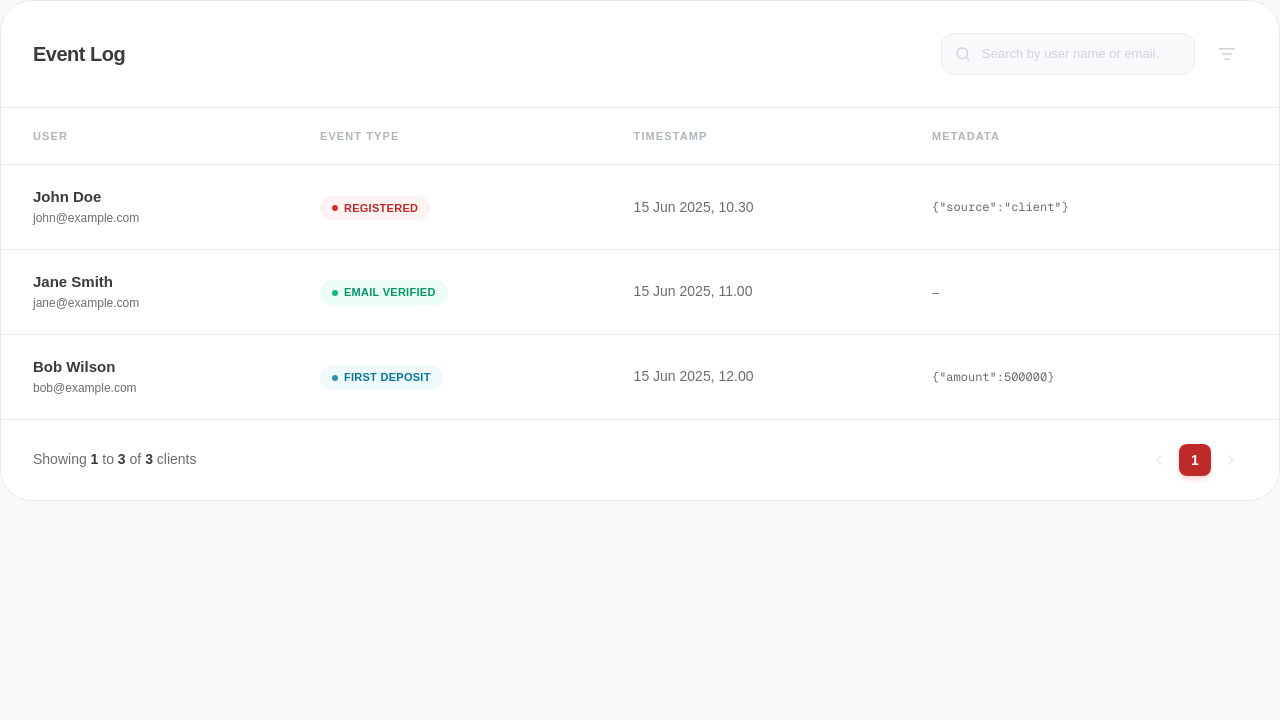
Scenario: EventLogPage › filter functionality › opens filter popup when filter button is clicked
This screenshot has width=1280, height=720.
Expected: the text "John Doe" is shown, x1=33 y1=188 x2=101 y2=205
What coordinates should you click on to do the following:
click the button named "Filter"
I would click on:
 (1227, 54)
Its box is x1=1207 y1=34 x2=1247 y2=74.
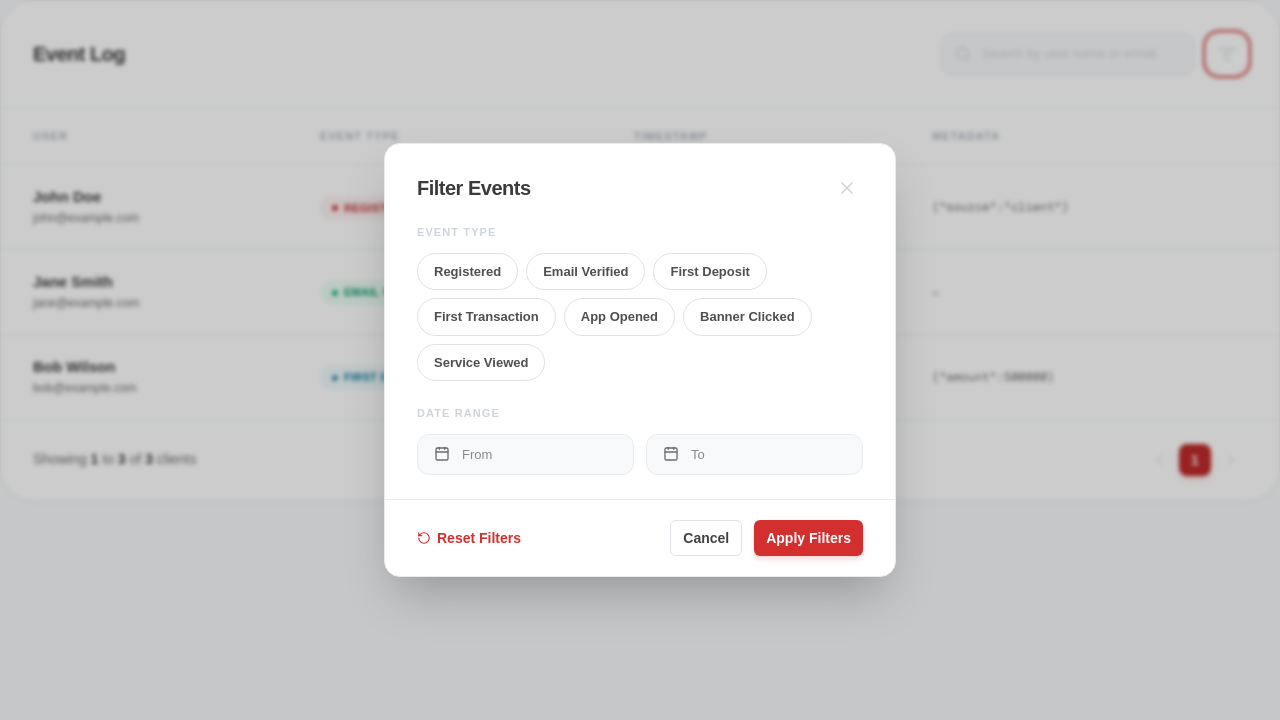
Now the heading "Filter Events" is shown, box x1=417 y1=174 x2=530 y2=202
